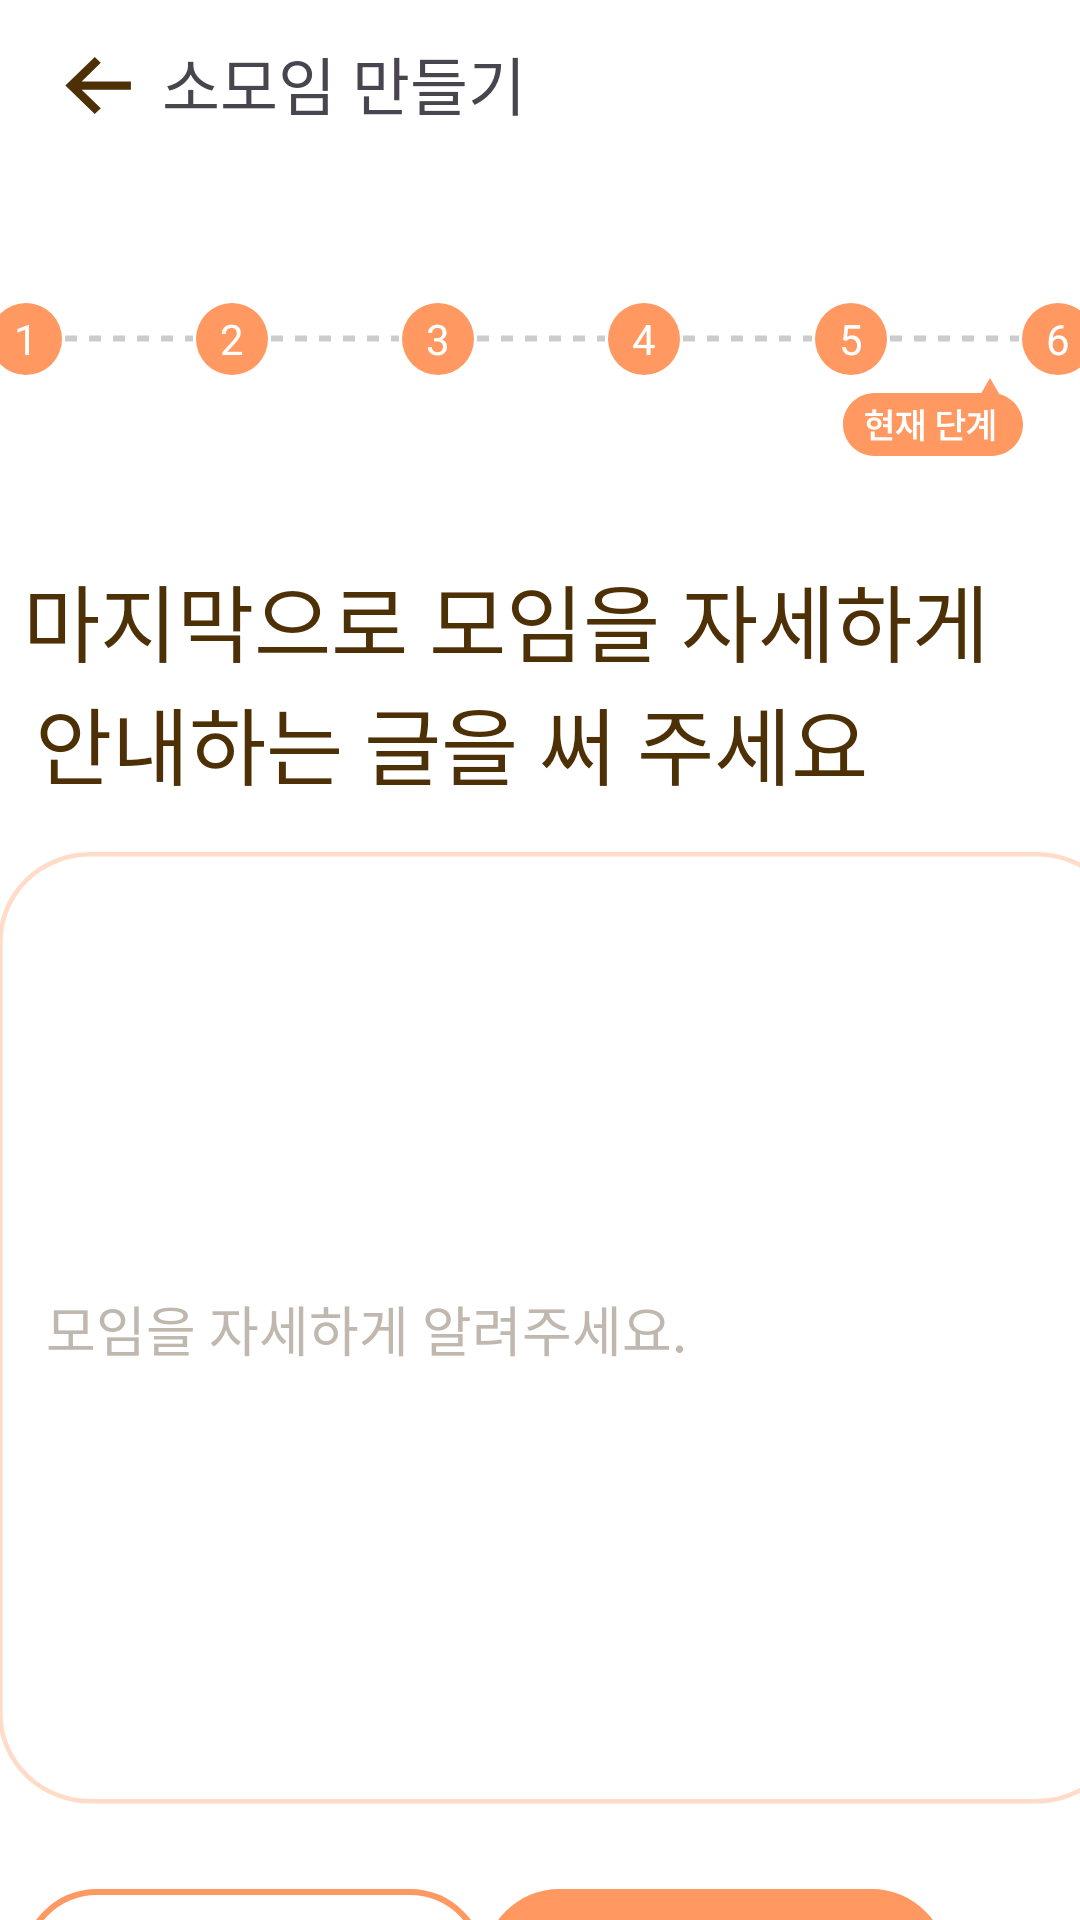

Named icons in this screenshot (1080x1920) and their bounding boxes, region(x1, y1, x2, y2):
meeting backbutton: region(65, 57, 131, 114)
